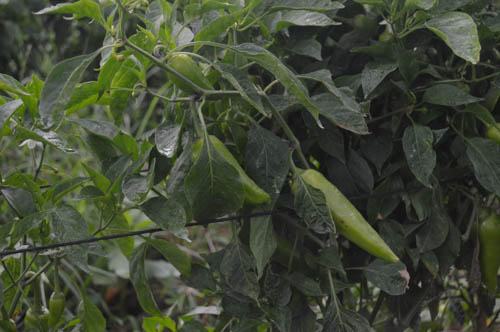ChiliPepper: (292, 165, 401, 265), (191, 137, 271, 203), (168, 54, 222, 104), (478, 214, 500, 304)
